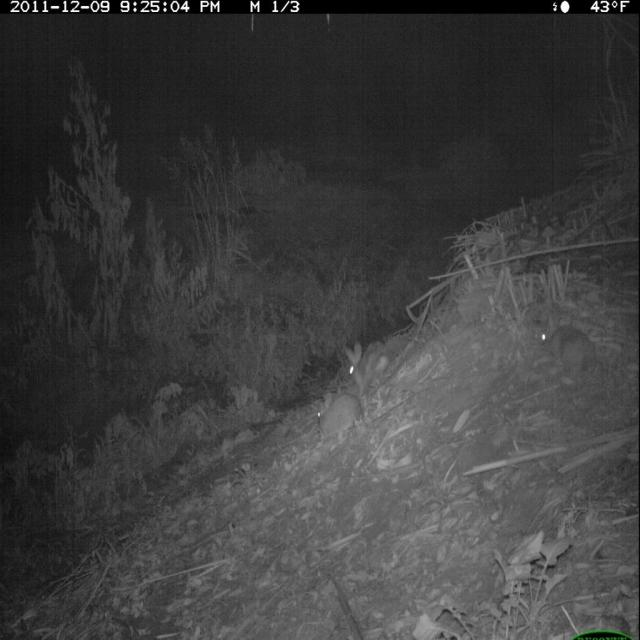rabbit: (535, 303, 601, 388), (344, 333, 395, 399), (312, 386, 367, 446)
